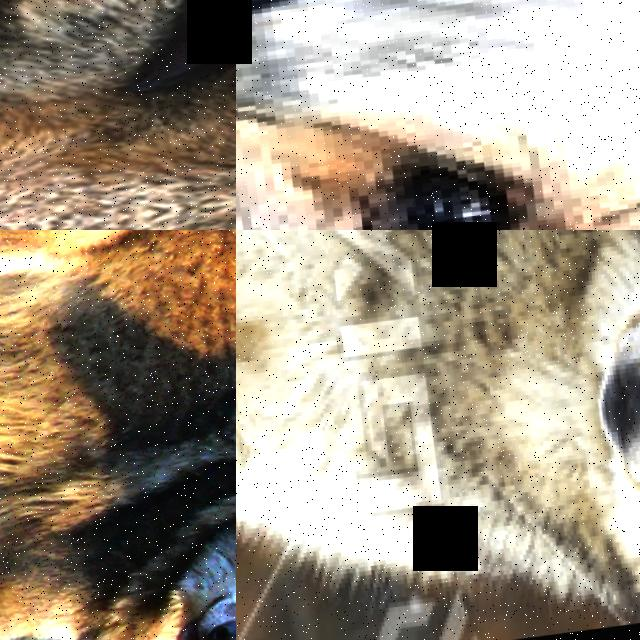dog: (236, 0, 640, 230)
wolf: (236, 230, 640, 640), (0, 230, 236, 640), (0, 0, 236, 230)
